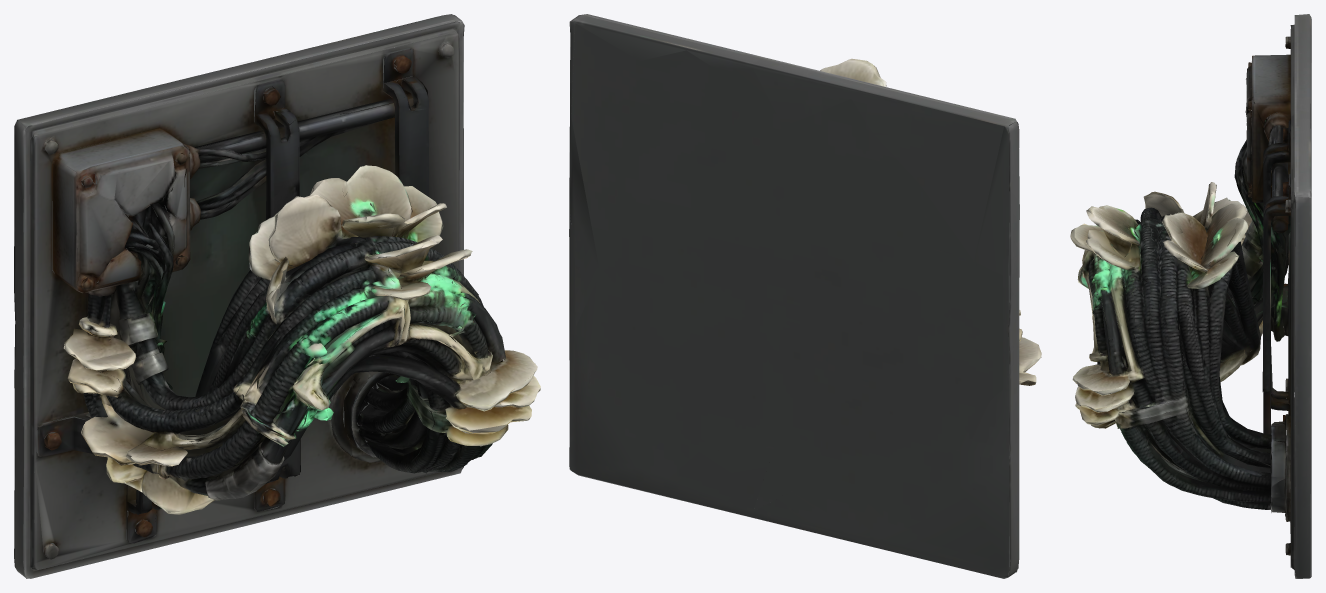
File: life_fungal_cable_bundle.glb
3 renders of one model, left to right at view 1: azimuth 30°, elevation 25°; view 2: azimuth 150°, elevation 25°; view 3: azimuth 270°, elevation 25°, orthographic. The views are drawn at different scales.
Parts seen in each view (by area): view 1: node_0; view 2: node_0; view 3: node_0.
Part boxes in pixels (<box>): node_0: <box>14,14,540,578</box>; node_0: <box>569,14,1041,578</box>; node_0: <box>1070,14,1311,578</box>.
Size of the model in its own units: 0.8044 by 0.7907 by 0.4486.
1 material, 1 textured.
